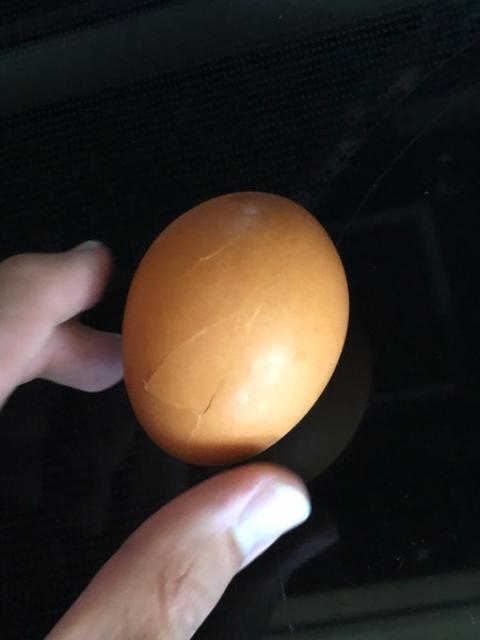Roto: (119, 189, 351, 466)
